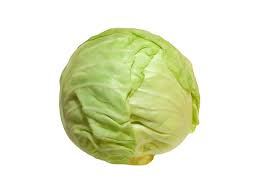cabbage: (62, 30, 200, 165)
